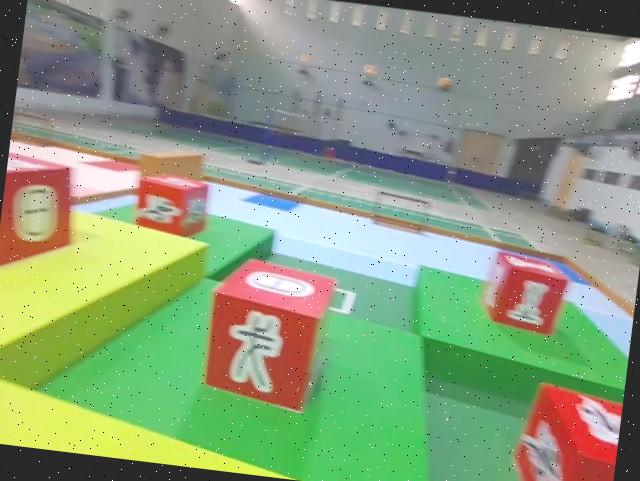R1: (504, 375, 624, 481), (133, 171, 212, 242)
R2 Fake: (199, 255, 338, 417), (0, 150, 81, 276)
R2 Real: (480, 251, 571, 337)
